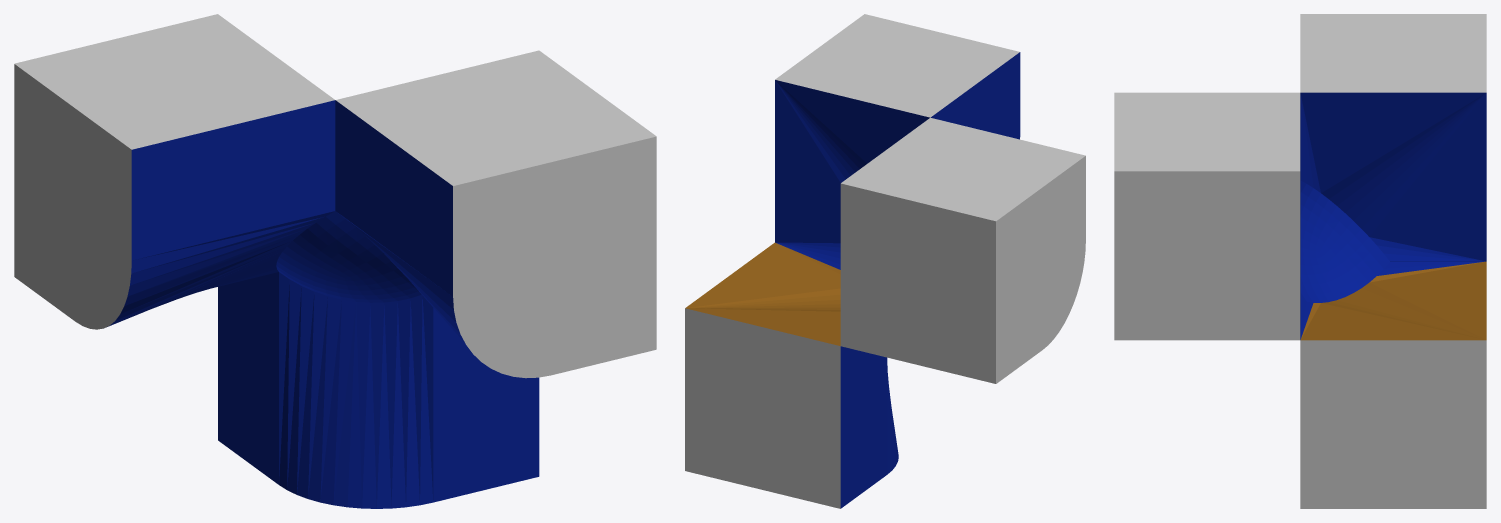
File: case_82.fbx
3 renders of one model, left to right at view 1: azimuth 30°, elevation 25°; view 2: azimuth 150°, elevation 25°; view 3: azimuth 270°, elevation 25°, orthographic. The views are drawn at different scales.
Visible parts, largest first — view 1: case_82; view 2: case_82; view 3: case_82.
Part boxes in pixels (box(x1,y1,x2,y2)): case_82: box(14, 14, 656, 508); case_82: box(685, 14, 1085, 508); case_82: box(1114, 14, 1486, 508).
Bounding box in the file's own units: 1 × 1 × 1.
